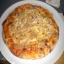pizza: (4, 2, 55, 63)
